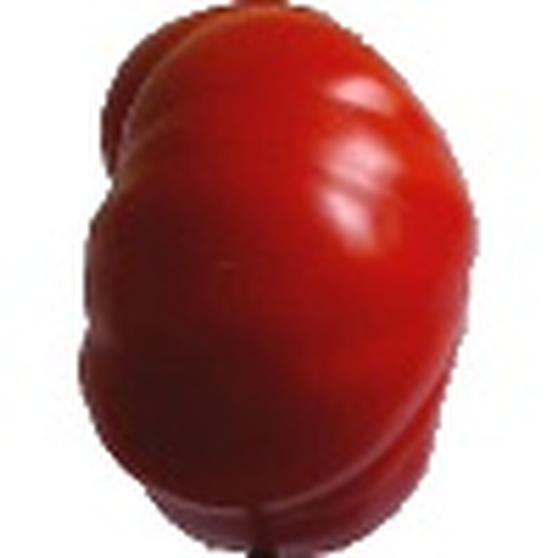tomato: (68, 3, 488, 558)
